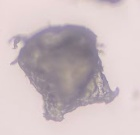microplastic: (8, 23, 120, 123), (97, 1, 123, 4)
